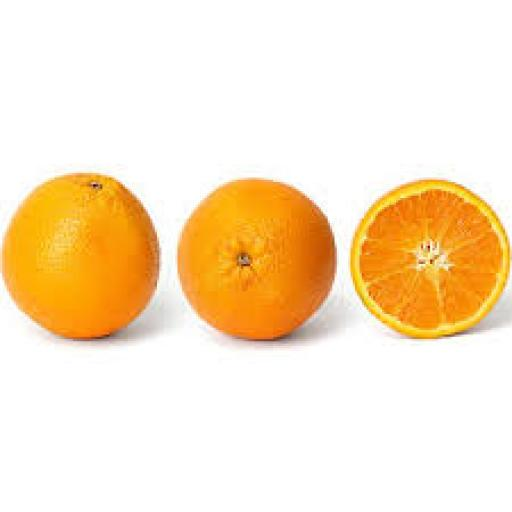orange: (3, 173, 159, 339), (178, 180, 336, 339), (353, 180, 509, 339)
